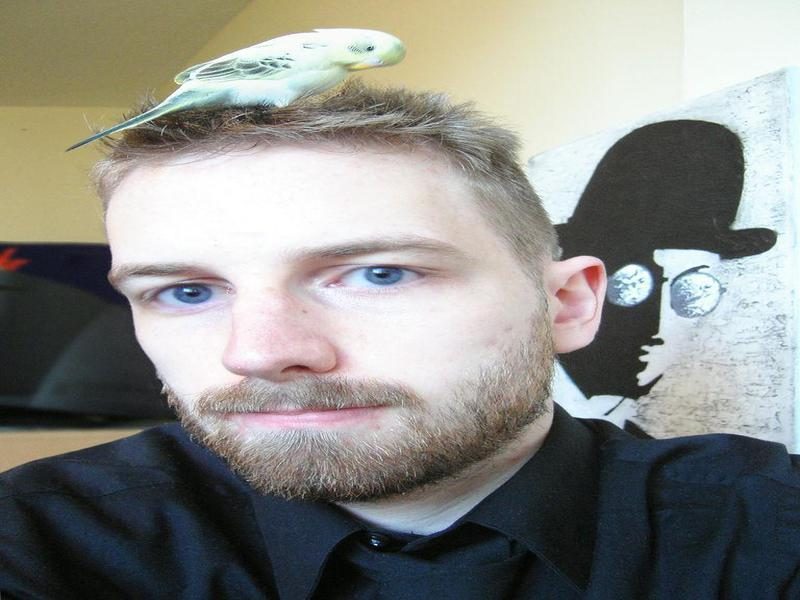person: (18, 102, 785, 600)
